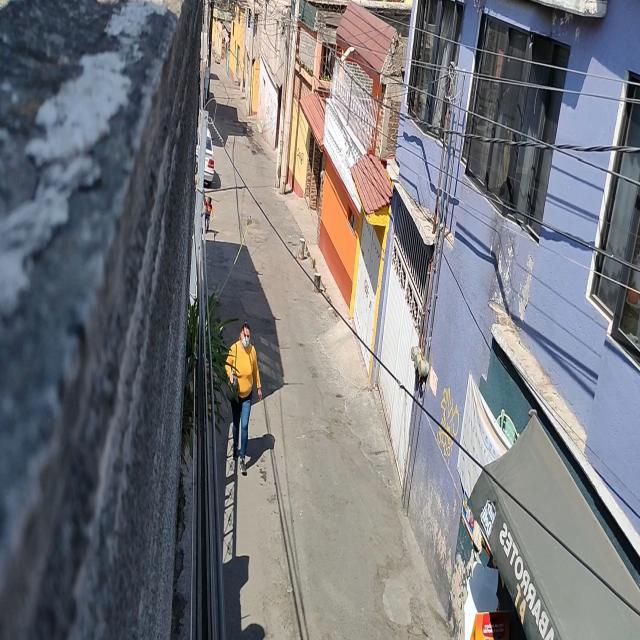adult: (224, 320, 263, 478)
